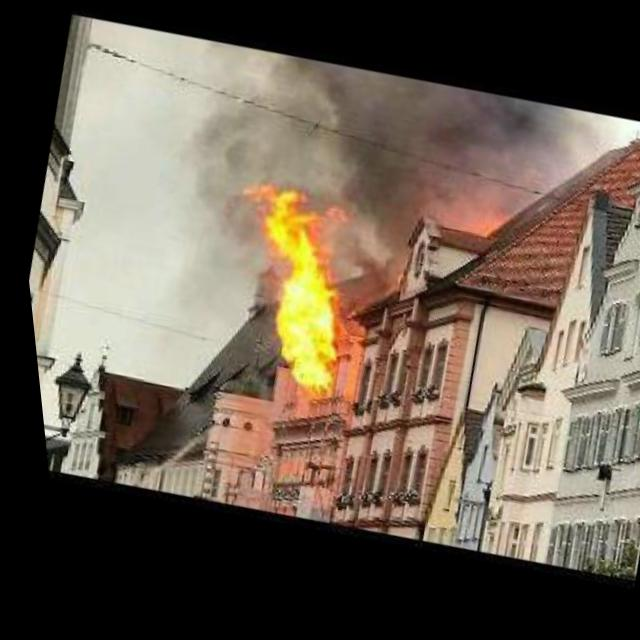Fire: (171, 21, 550, 254), (195, 172, 385, 401)
